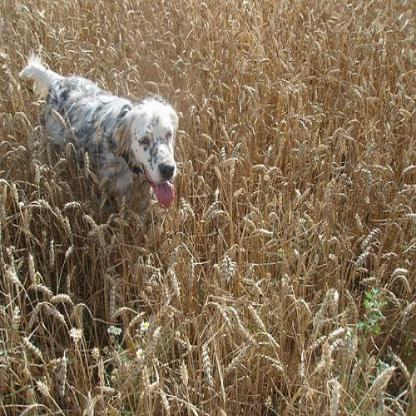English_setter: (16, 43, 180, 213)
